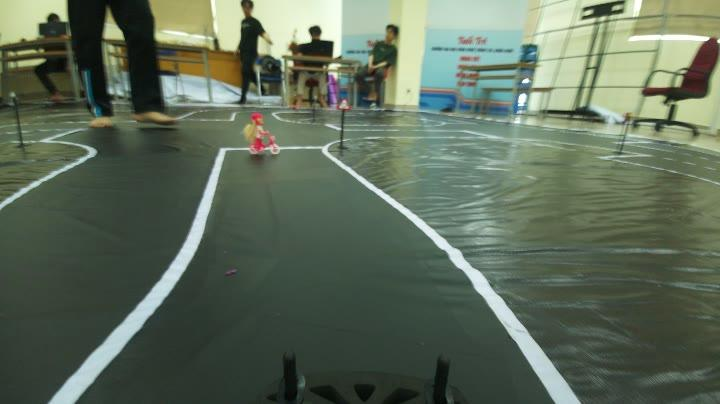pedestrian: (243, 114, 282, 159)
